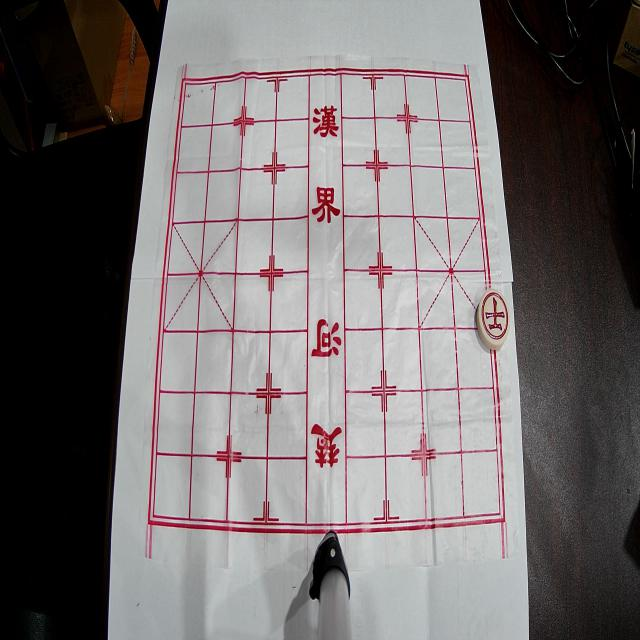red-guard: (476, 289, 511, 350)
